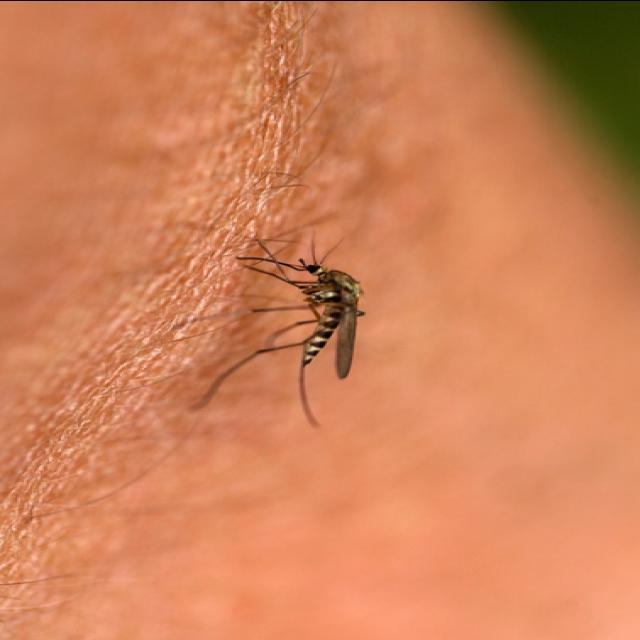Mosquito: (140, 220, 394, 430)
